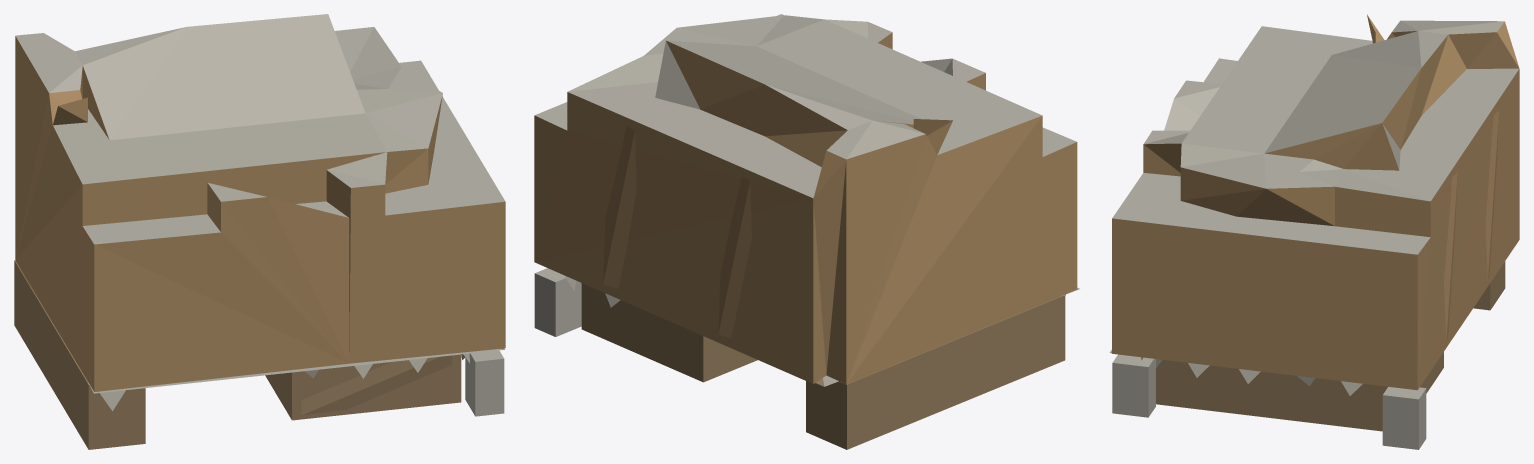
Rendered from pakhuis-de-zwijger.lod2.glb.
3 views of the same model, side by side, from view 1: azimuth 30°, elevation 25°; view 2: azimuth 150°, elevation 25°; view 3: azimuth 270°, elevation 25° (orthographic). The views are drawn at different scales.
Parts seen in each view (by area): view 1: lod2; view 2: lod2; view 3: lod2.
Part boxes in pixels (x1,y1,x2,y2): lod2: [14, 14, 505, 449]; lod2: [534, 14, 1079, 449]; lod2: [1109, 14, 1519, 449].
Bounding box in the file's own units: 42.1 × 27.74 × 37.12.
